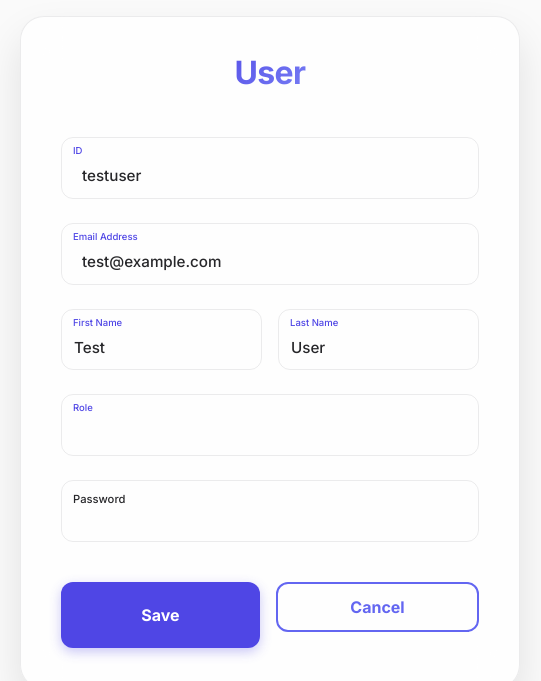
Test: User View › shows a translated error when save fails
Click the button "Save": (160, 615) [61, 582, 260, 648]
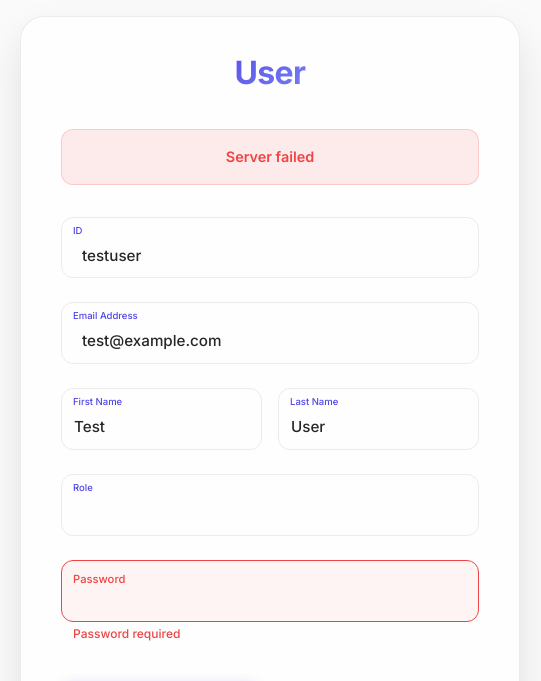
Now the text "Server failed" is shown, box [61, 129, 479, 185]
